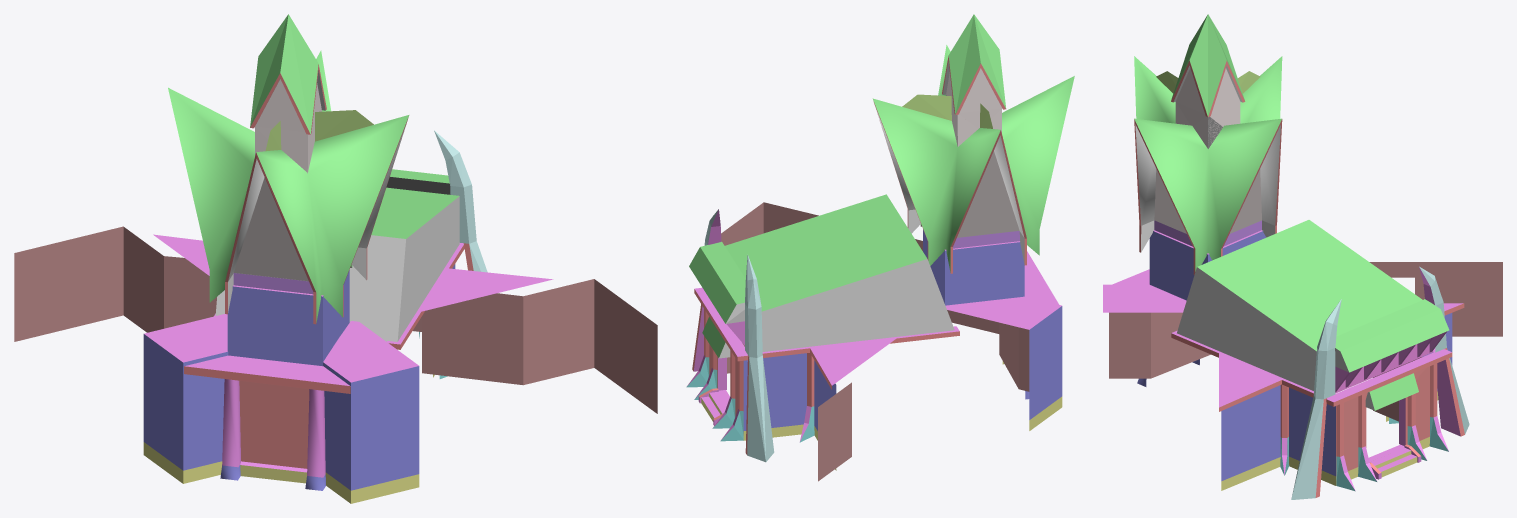
The model's file is O_DE_Bank.gltf.
3 renders of one model, left to right at view 1: azimuth 30°, elevation 25°; view 2: azimuth 150°, elevation 25°; view 3: azimuth 270°, elevation 25°, orthographic. The views are drawn at different scales.
Visible parts, largest first — view 1: O_DE_Bank; view 2: O_DE_Bank; view 3: O_DE_Bank.
Boxes of the visible parts, x1,y1,x2,y2 form: O_DE_Bank: (14,14,657,503); O_DE_Bank: (686,14,1074,481); O_DE_Bank: (1103,14,1502,499).
Size of the model in its own units: 7.49 by 7.65 by 7.44.
